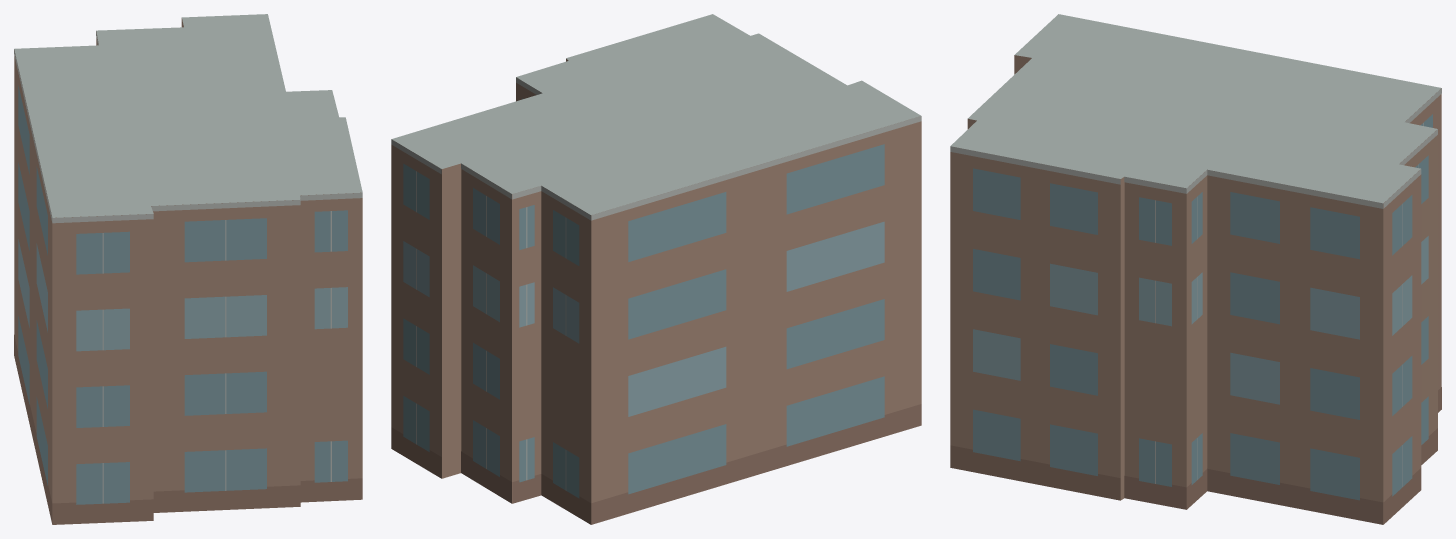
File: survey-upis-32614067.glb
The picture shows the model from 3 angles, left to right: view 1: azimuth 30°, elevation 25°; view 2: azimuth 150°, elevation 25°; view 3: azimuth 270°, elevation 25°; orthographic projection. The views are drawn at different scales.
Visible parts, largest first — view 1: survey-upis-32614067.tmp; view 2: survey-upis-32614067.tmp; view 3: survey-upis-32614067.tmp.
Boxes of the visible parts, x1=… form: survey-upis-32614067.tmp: x1=14, y1=14, x2=362, y2=524; survey-upis-32614067.tmp: x1=391, y1=14, x2=921, y2=524; survey-upis-32614067.tmp: x1=950, y1=14, x2=1441, y2=524.
Bounding box in the file's own units: 17.63 × 13.95 × 19.33.
